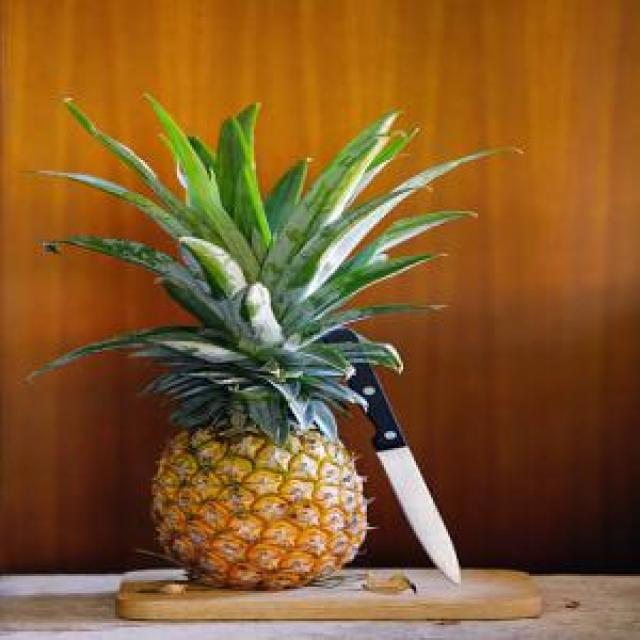knife: (309, 324, 479, 589)
